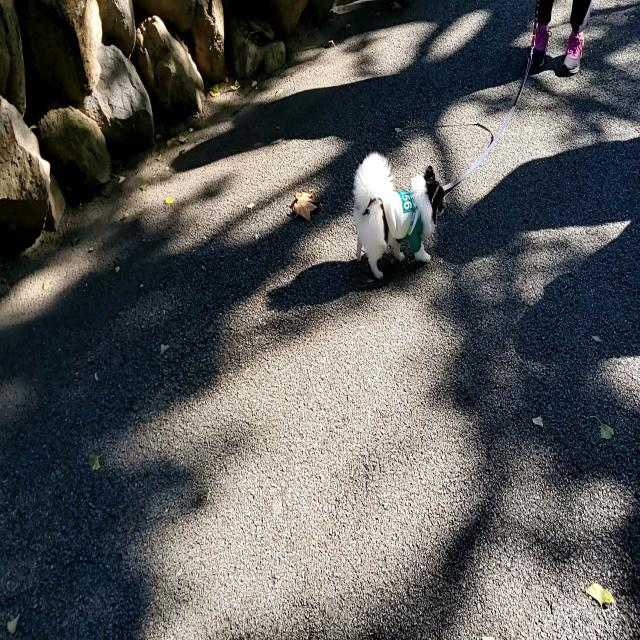Dog: (351, 150, 447, 280)
